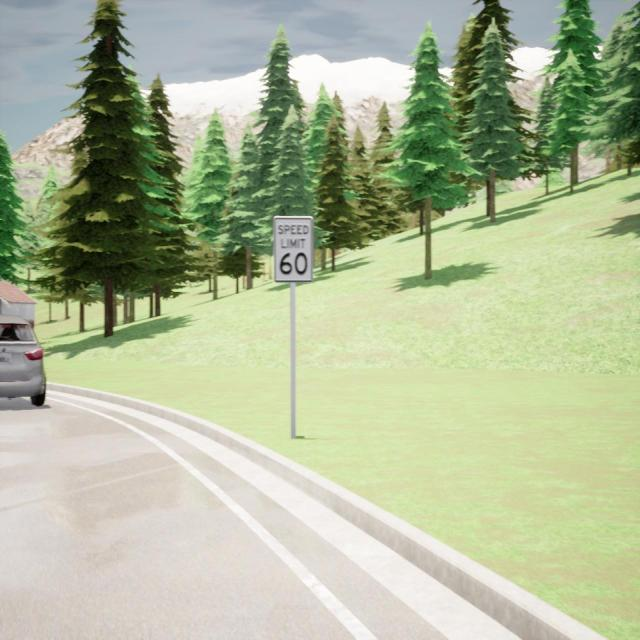Traffic_Signs: (275, 217, 311, 281)
Vehicle: (0, 314, 46, 406)
